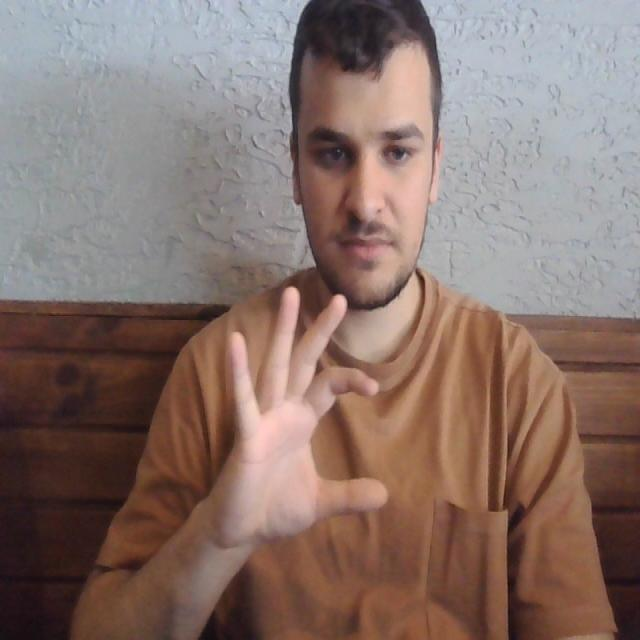Tuvalet: (194, 270, 408, 558)
